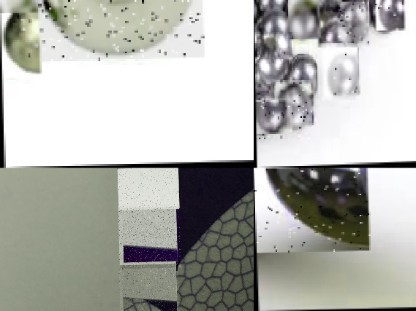ironball: (37, 0, 203, 62), (253, 168, 370, 253), (0, 4, 41, 78), (318, 44, 357, 99), (277, 82, 313, 131), (258, 3, 293, 51), (255, 90, 286, 141), (337, 0, 369, 47), (252, 50, 292, 84), (287, 0, 320, 40), (375, 0, 405, 31), (286, 51, 317, 81), (342, 0, 376, 2)
